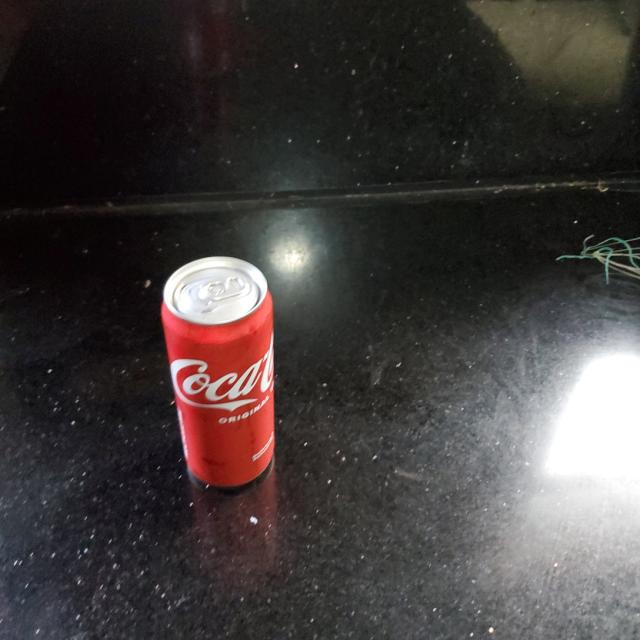coke: (165, 261, 281, 492)
